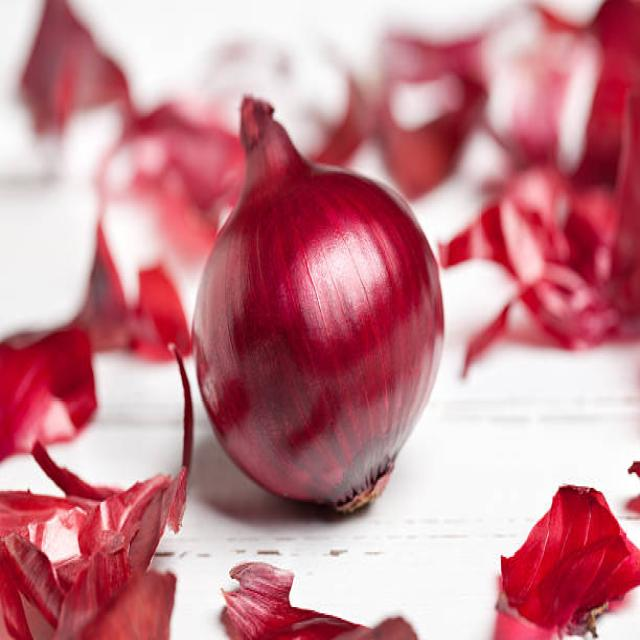onion: (184, 164, 448, 514)
